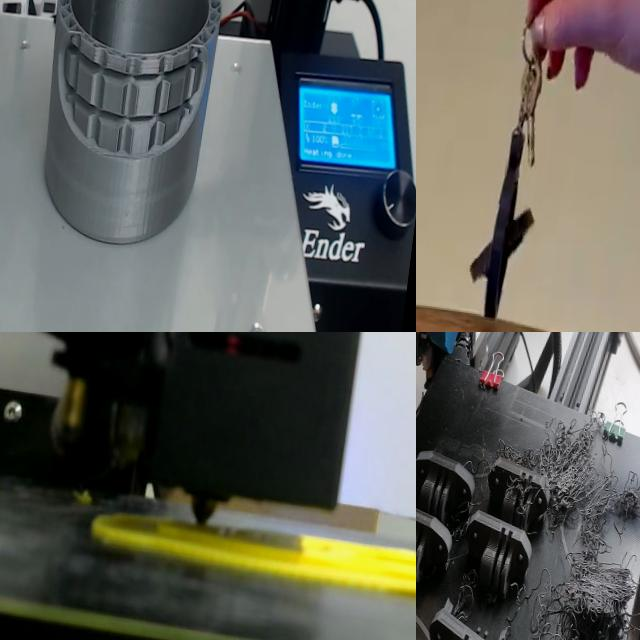spaghetti: (472, 398, 640, 552), (526, 543, 640, 640)
